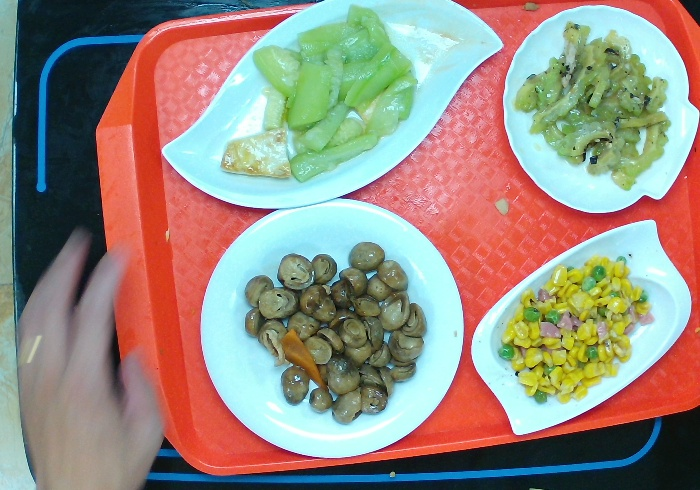RJxy-Bei_Ke_Wan: (503, 3, 699, 213)
RJxy-Jian_Jiao_Fang_Die: (467, 218, 693, 436)
RJxy-Jian_Jiao_Pan: (162, 1, 505, 210)
RJxy-Yuan_Pan: (195, 198, 467, 459)
